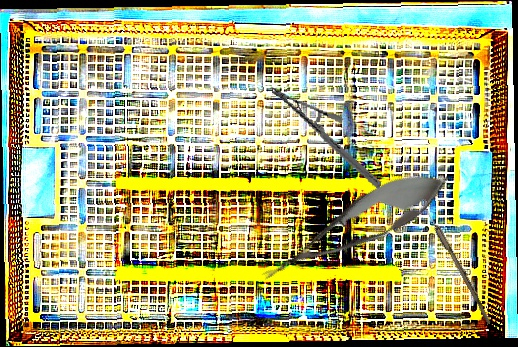Micro Scissor: (251, 154, 459, 300)
Needle Holder: (256, 86, 397, 190)
Surgical Spoon: (413, 192, 495, 325)
